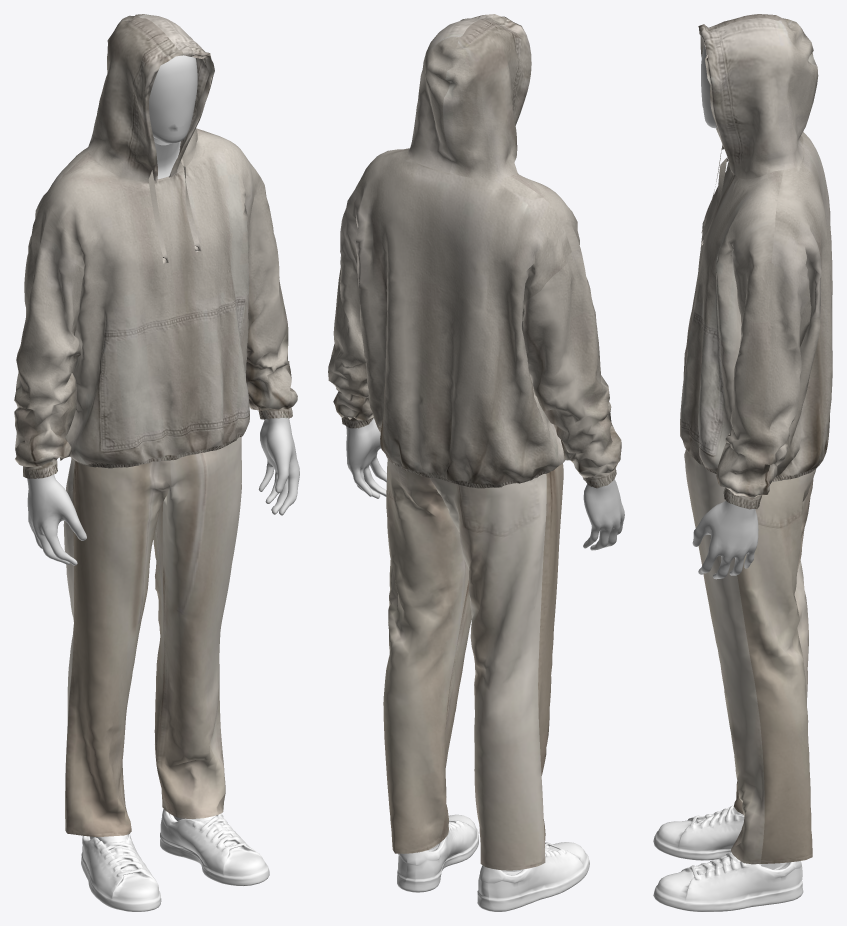
File: Man.glb
3 views of the same model, side by side, from view 1: azimuth 30°, elevation 25°; view 2: azimuth 150°, elevation 25°; view 3: azimuth 270°, elevation 25° (orthographic). The views are drawn at different scales.
Parts seen in each view (by area): view 1: Shirt, Pants, Body, Shoes_pair; view 2: Shirt, Pants, Shoes_pair, Body; view 3: Shirt, Pants, Shoes_pair, Body.
Part boxes in pixels (left/top/right/bottom): Shirt: left=14, top=14, right=297, bottom=478; Pants: left=63, top=434, right=243, bottom=837; Body: left=27, top=55, right=299, bottom=839; Shoes_pair: left=81, top=809, right=269, bottom=911; Shirt: left=328, top=14, right=621, bottom=488; Pants: left=383, top=455, right=563, bottom=870; Shoes_pair: left=397, top=814, right=589, bottom=911; Body: left=346, top=418, right=624, bottom=872; Shirt: left=680, top=14, right=832, bottom=509; Pants: left=684, top=448, right=822, bottom=864; Shoes_pair: left=653, top=805, right=803, bottom=911; Body: left=692, top=45, right=786, bottom=869.
Size of the model in its own units: 0.6492 by 1.9 by 0.3604.
Materials: 3 (1 with a texture image).
